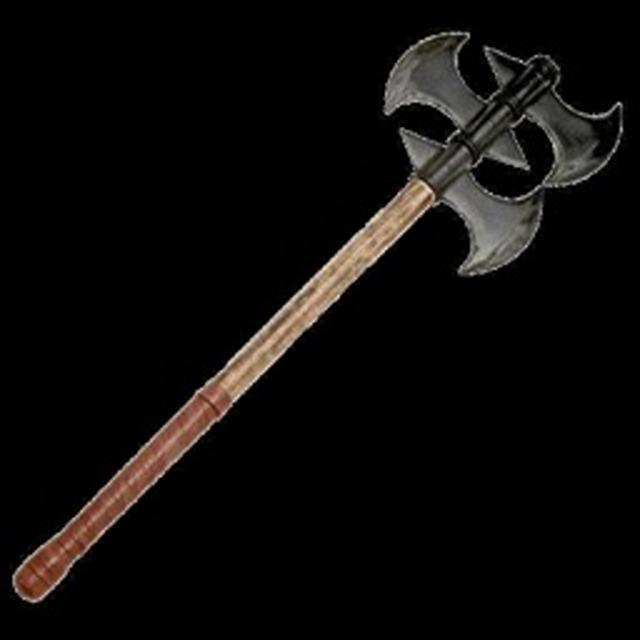ax: (5, 19, 632, 613)
